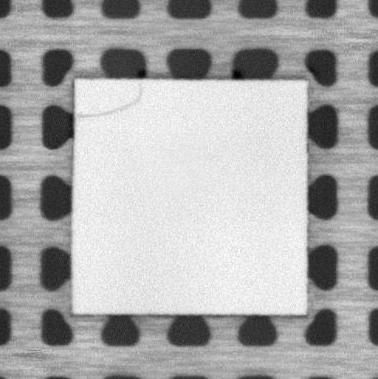DIE_CRACK: (79, 82, 143, 120)
